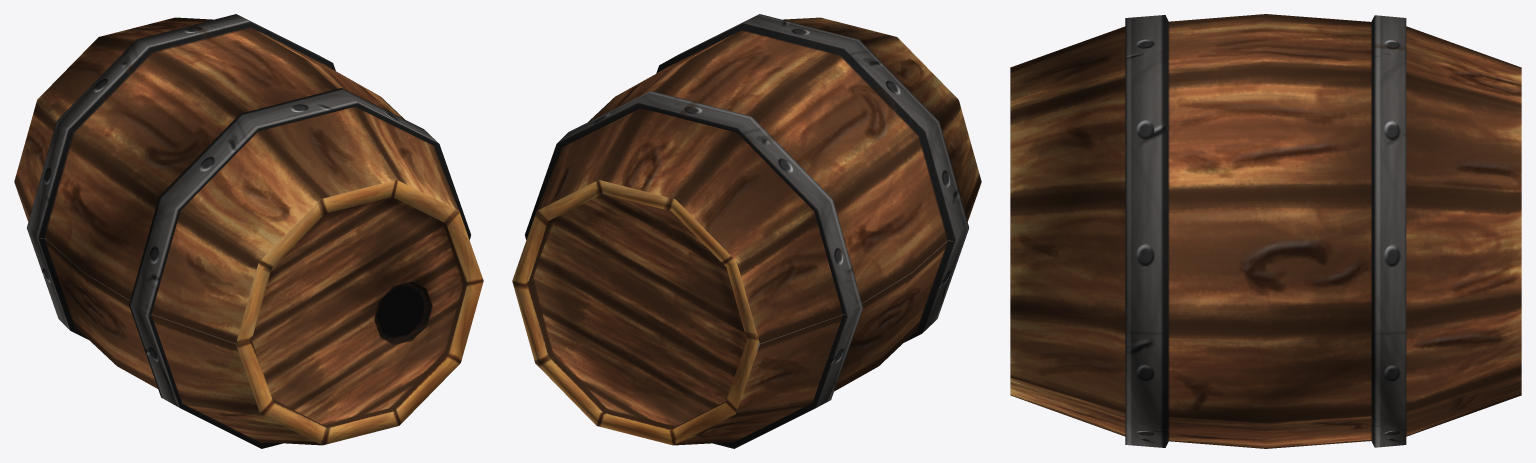
Rendered from Barrel.obj.
3 renders of one model, left to right at view 1: azimuth 30°, elevation 25°; view 2: azimuth 150°, elevation 25°; view 3: azimuth 270°, elevation 25°, orthographic. The views are drawn at different scales.
Visible parts, largest first — view 1: Cylinder.001_Cylinder.002; view 2: Cylinder.001_Cylinder.002; view 3: Cylinder.001_Cylinder.002.
Part boxes in pixels (bbox=[...]): Cylinder.001_Cylinder.002: bbox=[14, 14, 483, 448]; Cylinder.001_Cylinder.002: bbox=[512, 14, 981, 448]; Cylinder.001_Cylinder.002: bbox=[1010, 14, 1521, 448].
Size of the model in its own units: 2.1 by 2.01 by 2.46.
